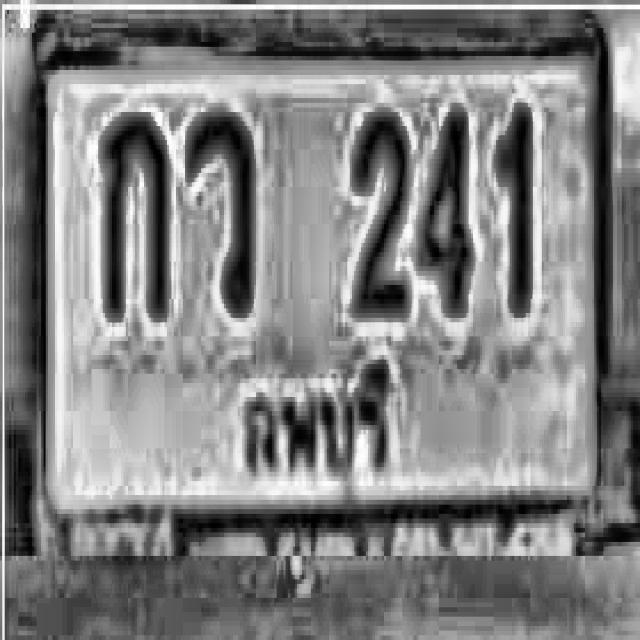license-plate: (36, 0, 620, 556)
